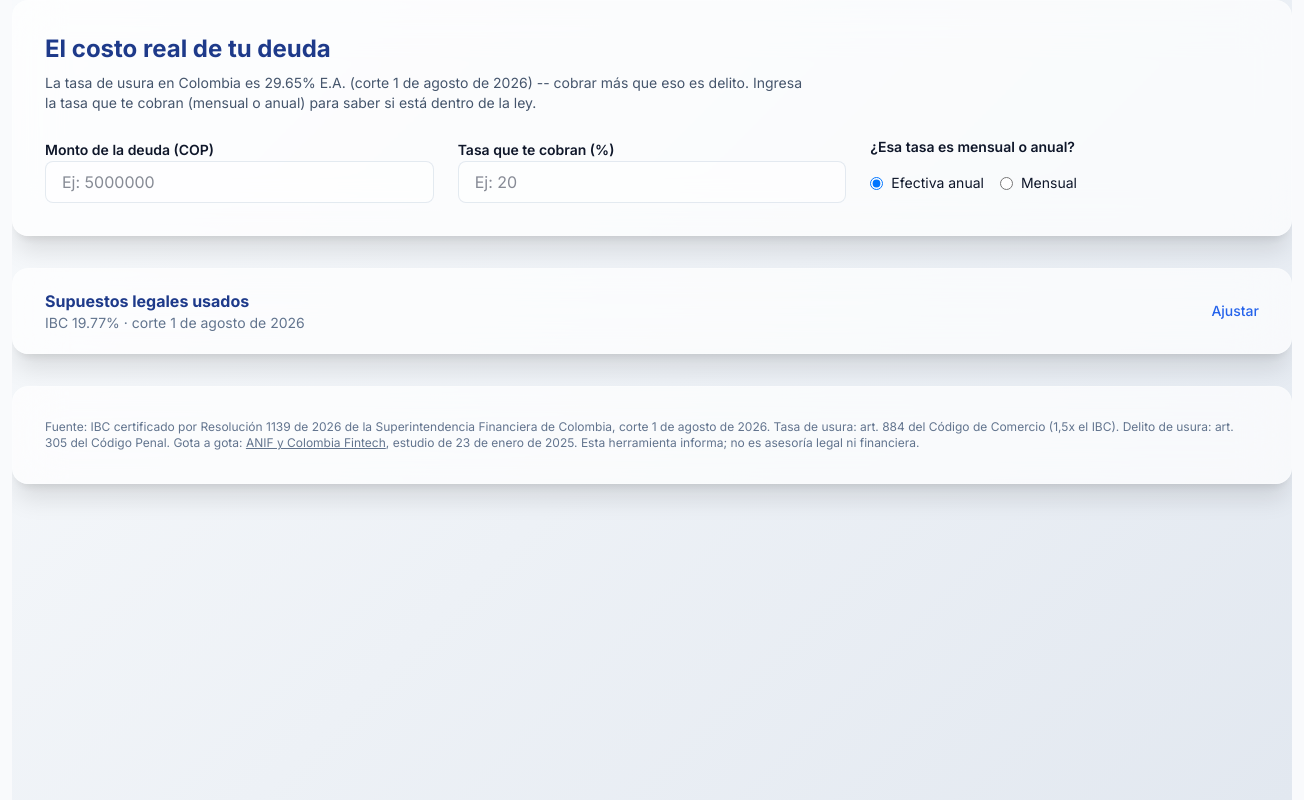
Test: CostoRealDeuda › convierte una tasa mensual a efectiva anual antes de clasificarla
In the number field labelled "Monto de la deuda (COP)": [239, 182] box [45,161,434,203], type "5000000"
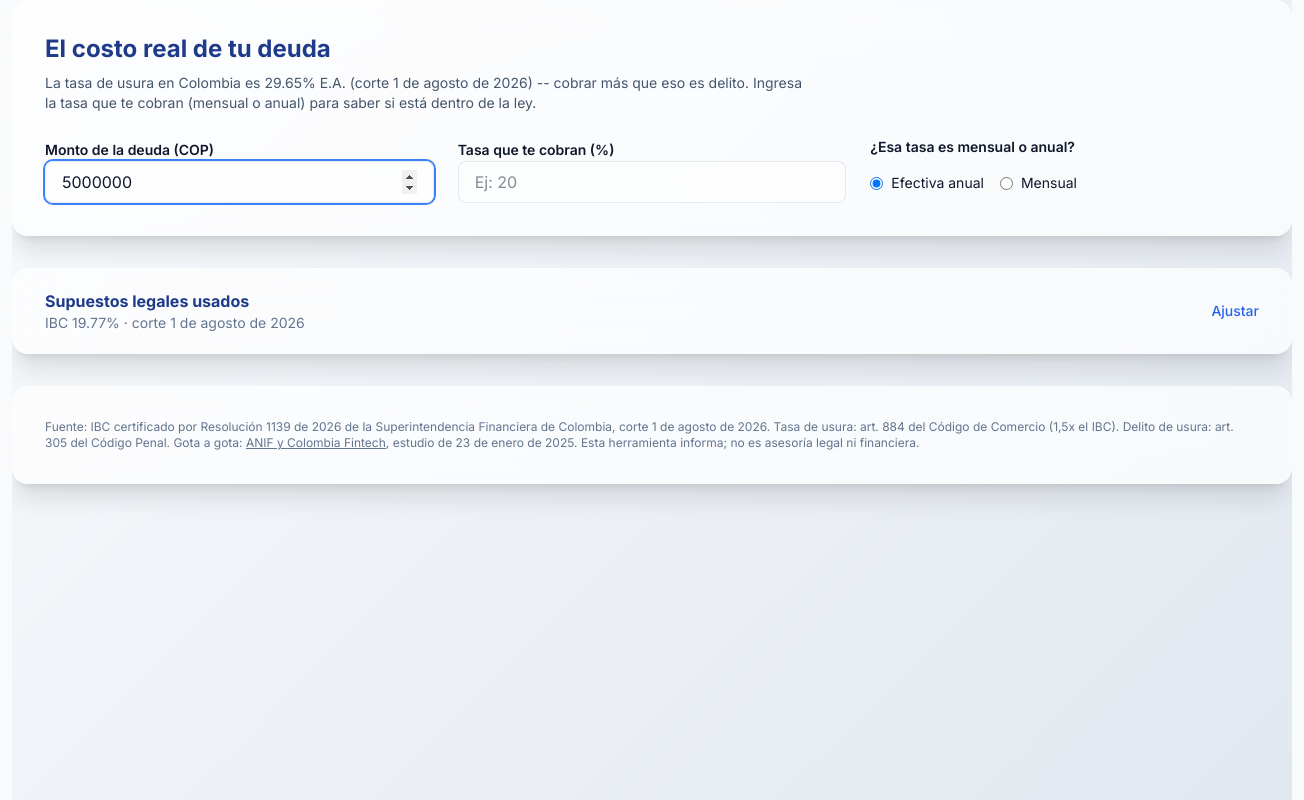
Click the radio button labelled "Mensual": [1006, 183] box [1000,176,1013,190]
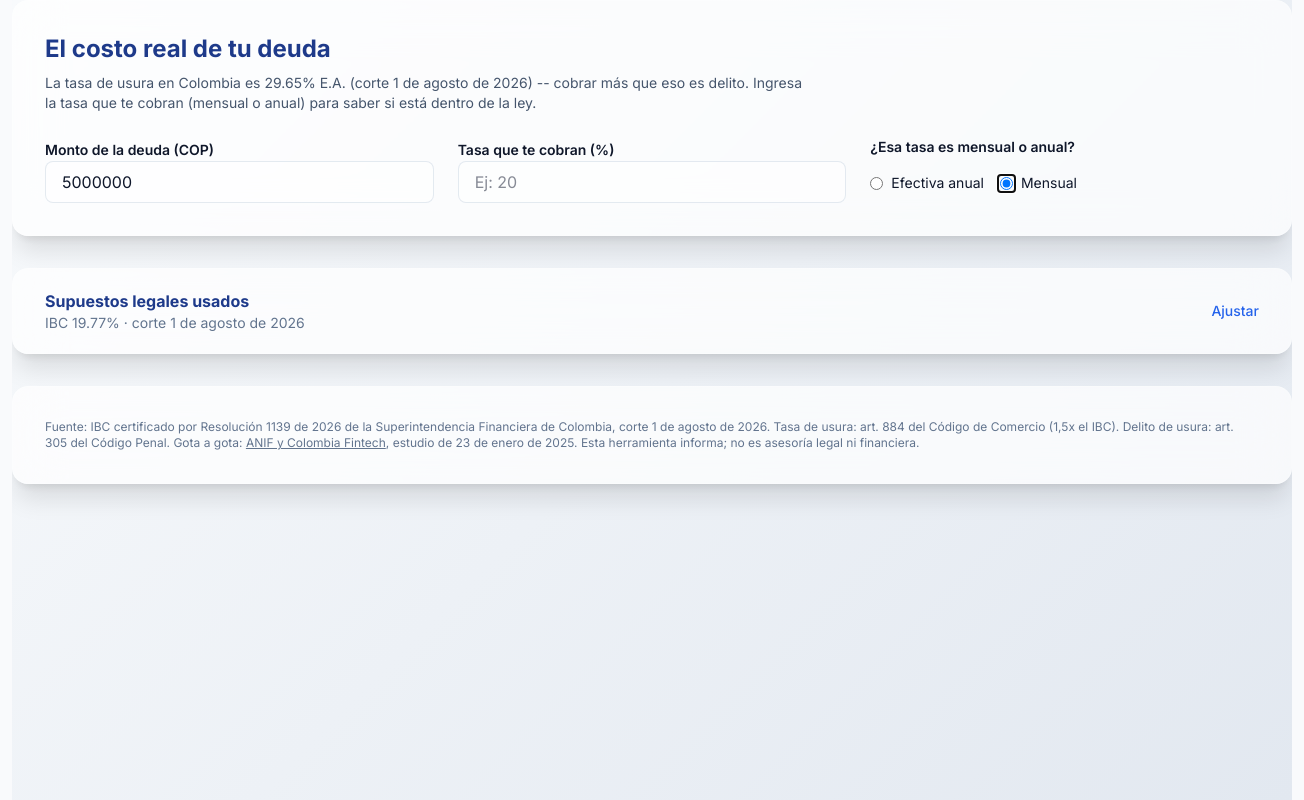
In the number field labelled "Tasa que te cobran (%)": [652, 182] box [458,161,846,203], type "20"
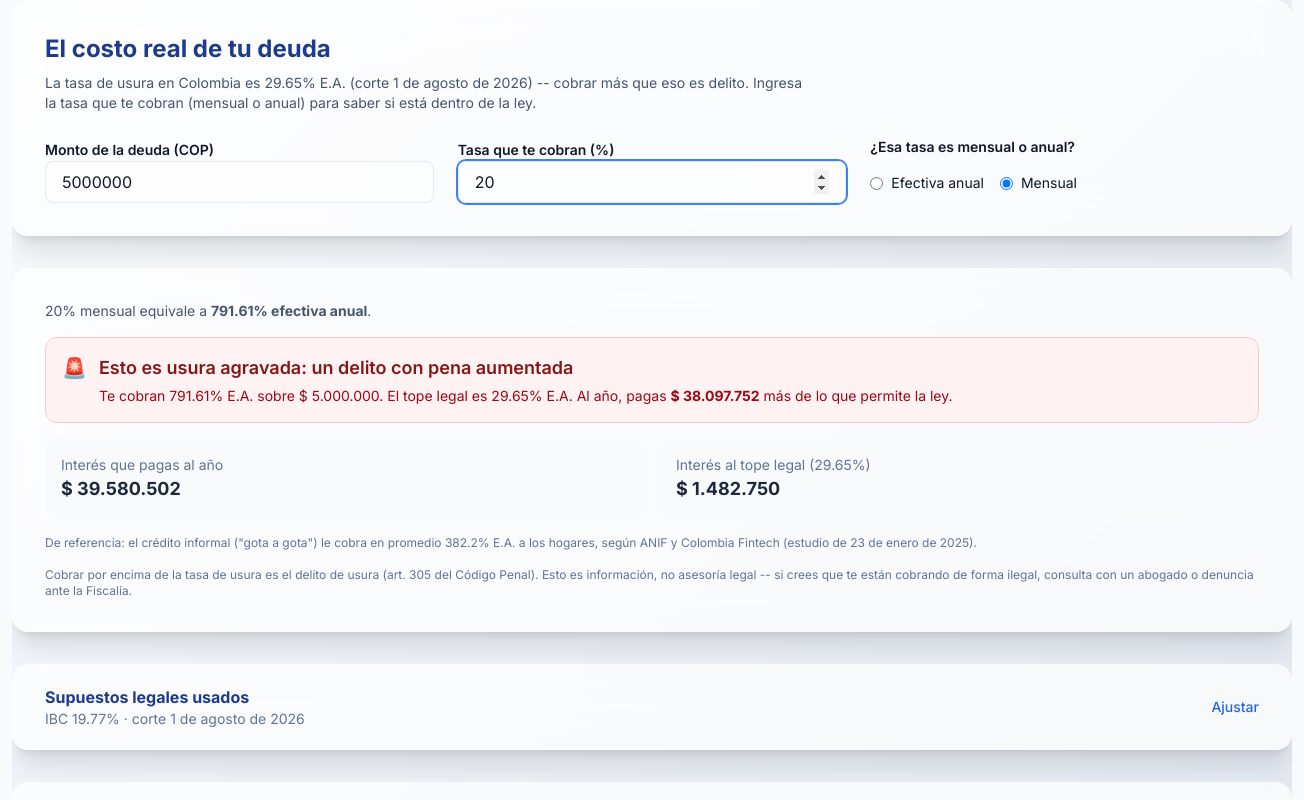
Result: the text "791.61% efectiva anual" is shown at [211,302,367,319]
Result: the text "Esto es usura agravada: un delito con pena aumentada" is shown at [99,357,573,378]
